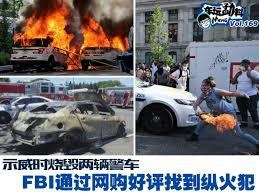fire: (12, 2, 130, 72)
